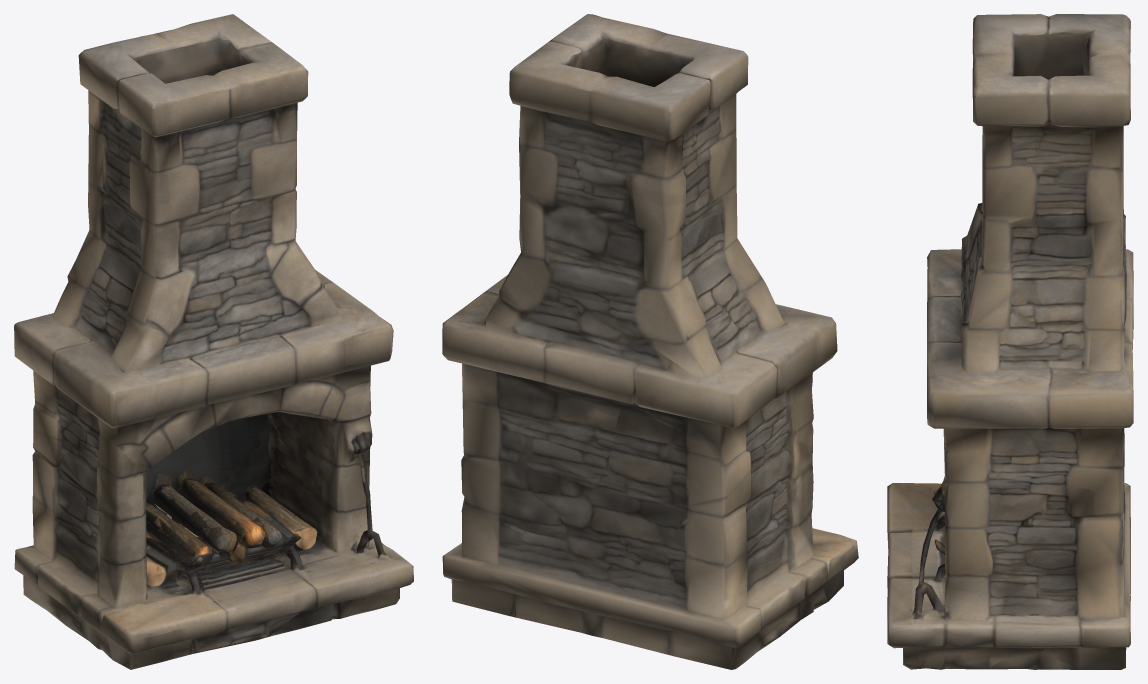
Rendered from fireplace.glb.
The picture shows the model from 3 angles, left to right: view 1: azimuth 30°, elevation 25°; view 2: azimuth 150°, elevation 25°; view 3: azimuth 270°, elevation 25°; orthographic projection. The views are drawn at different scales.
Visible parts, largest first — view 1: Mesh_0; view 2: Mesh_0; view 3: Mesh_0.
Boxes of the visible parts, x1=… form: Mesh_0: x1=14, y1=14, x2=413, y2=669; Mesh_0: x1=442, y1=14, x2=858, y2=669; Mesh_0: x1=887, y1=14, x2=1133, y2=669.
Bounding box in the file's own units: 1.13 × 2 × 0.8146.
1 material, 1 textured.
